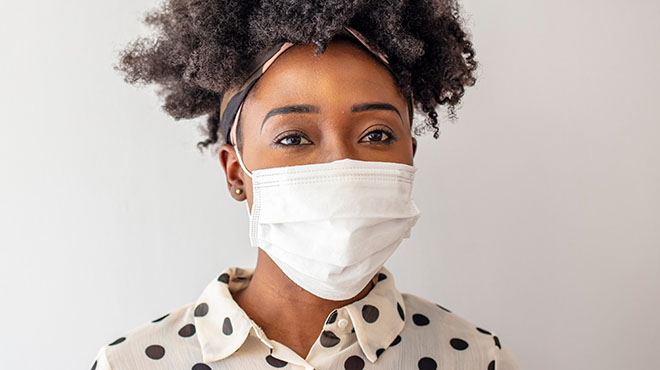with_mask: (254, 89, 414, 256)
